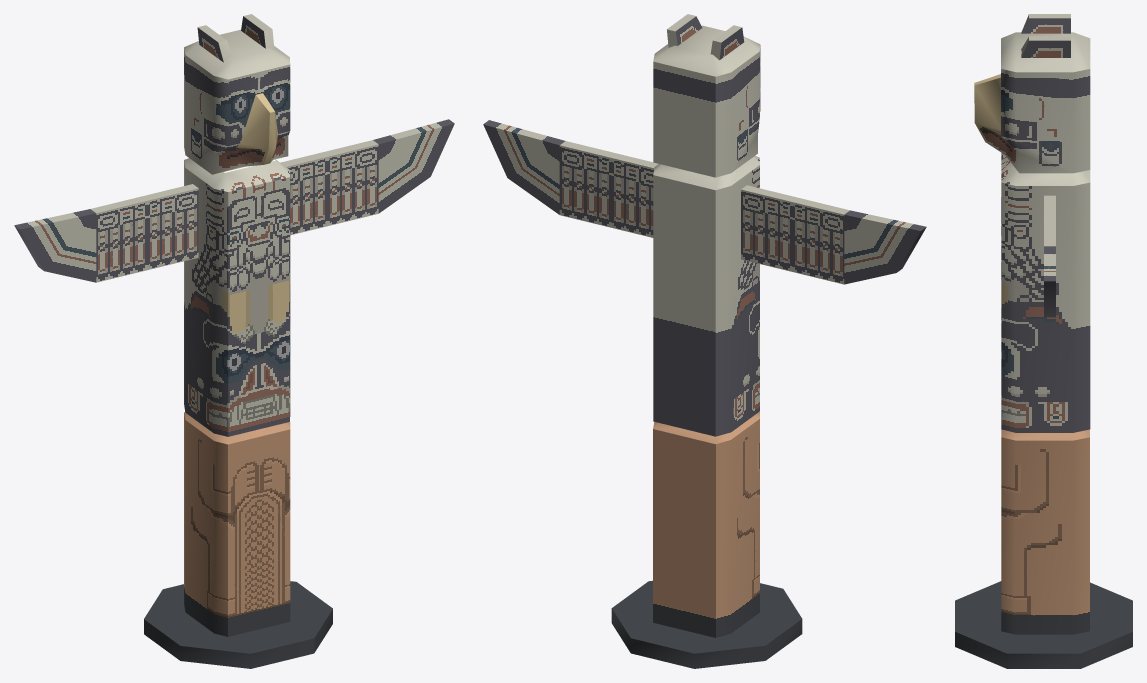
The model's file is 04f6_Totem_Pole.glb.
The picture shows the model from 3 angles, left to right: view 1: azimuth 30°, elevation 25°; view 2: azimuth 150°, elevation 25°; view 3: azimuth 270°, elevation 25°; orthographic projection.
Parts seen in each view (by area): view 1: part_0; view 2: part_0; view 3: part_0.
Boxes of the visible parts, bbox=[...] form: part_0: bbox=[14, 14, 454, 668]; part_0: bbox=[483, 14, 926, 668]; part_0: bbox=[955, 14, 1132, 668].
Size of the model in its own units: 6.48 by 8.52 by 2.28.
Materials: 1 (1 with a texture image).
